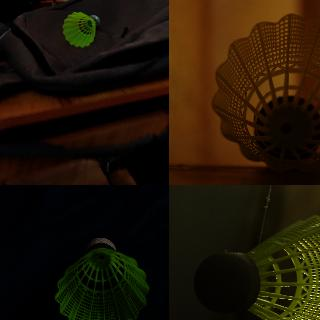shuttlecock: (211, 13, 319, 172), (193, 215, 319, 319), (54, 237, 149, 319), (62, 12, 98, 46)
